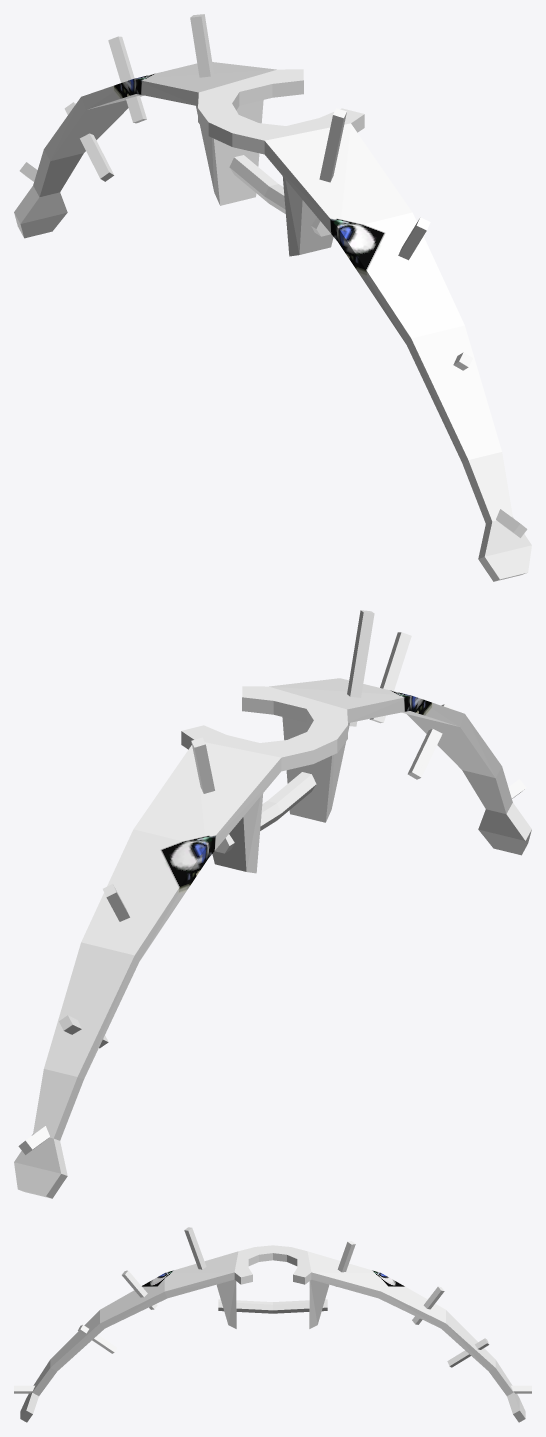
The model's file is ChameleoncksterBow_bow.obj.
3 views of the same model, one above another, from view 1: azimuth 30°, elevation 25°; view 2: azimuth 150°, elevation 25°; view 3: azimuth 270°, elevation 25° (orthographic). The views are drawn at different scales.
Parts seen in each view (by area): view 1: Chameleon_tricksterBow_tri [bow]; view 2: Chameleon_tricksterBow_tri [bow]; view 3: Chameleon_tricksterBow_tri [bow].
Part boxes in pixels (x1=…): Chameleon_tricksterBow_tri [bow]: x1=14, y1=14, x2=531, y2=581; Chameleon_tricksterBow_tri [bow]: x1=14, y1=610, x2=531, y2=1198; Chameleon_tricksterBow_tri [bow]: x1=14, y1=1227, x2=531, y2=1422.
Bounding box in the file's own units: 0.1896 × 0.5169 × 1.29.
Materials: 1 (1 with a texture image).
